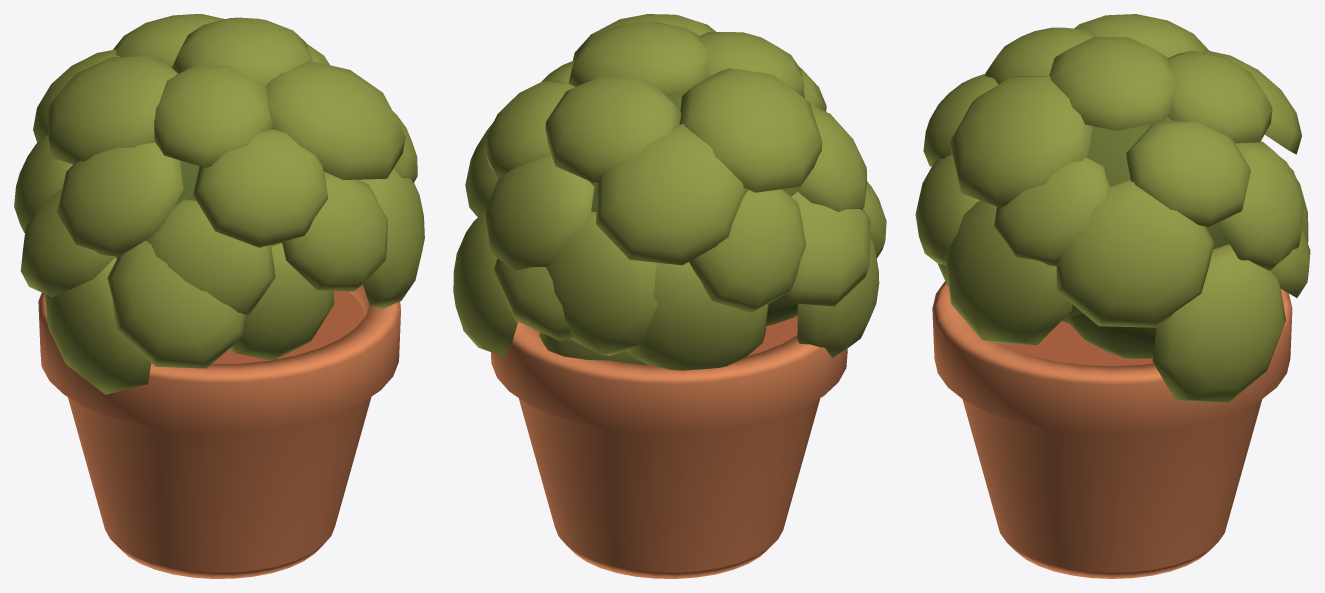
The model's file is PROP_POT_PLANT.glb.
3 views of the same model, side by side, from view 1: azimuth 30°, elevation 25°; view 2: azimuth 150°, elevation 25°; view 3: azimuth 270°, elevation 25° (orthographic).
Parts seen in each view (by area): view 1: plant_leaves, pot, soil, plant_core; view 2: plant_leaves, pot, plant_core, soil; view 3: plant_leaves, pot, plant_core, soil.
Boxes of the visible parts, box(x1,y1,x2,y2) form: plant_leaves: box(14, 14, 424, 394); pot: box(38, 284, 400, 578); soil: box(212, 291, 365, 364); plant_core: box(116, 66, 359, 258); plant_leaves: box(453, 14, 886, 370); pot: box(491, 322, 847, 578); plant_core: box(589, 89, 797, 325); soil: box(534, 315, 797, 355); plant_leaves: box(915, 14, 1310, 403); pot: box(932, 281, 1292, 578); plant_core: box(1061, 116, 1229, 358); soil: box(998, 321, 1153, 366).
Bounding box in the file's own units: 2.08 × 2.68 × 1.93.
